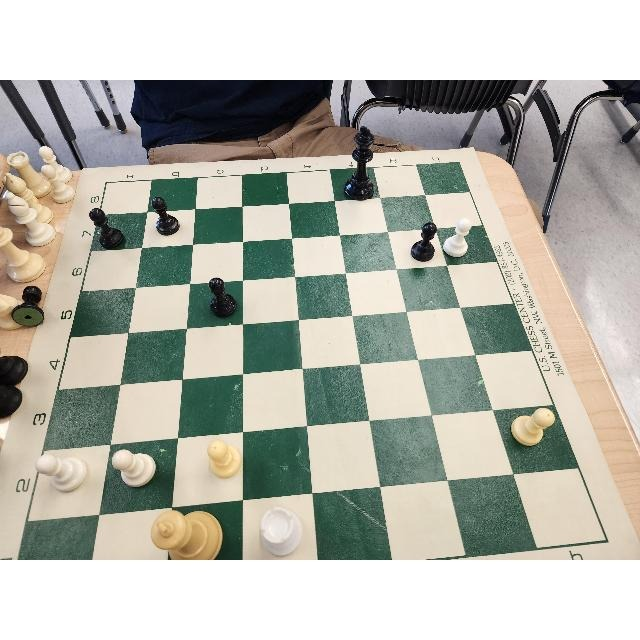black-king: (344, 126, 376, 202)
black-pawn: (89, 207, 125, 249), (12, 286, 44, 326), (149, 193, 178, 234), (209, 277, 237, 318), (411, 220, 437, 260)
white-bishop: (4, 171, 56, 223), (6, 191, 54, 245)
white-king: (152, 511, 224, 559)
white-pawn: (37, 454, 87, 490), (110, 448, 155, 488), (510, 406, 556, 445), (42, 162, 75, 203), (208, 440, 240, 478), (444, 217, 471, 256), (38, 146, 68, 180)
white-rook: (257, 507, 304, 558), (7, 150, 50, 197)
